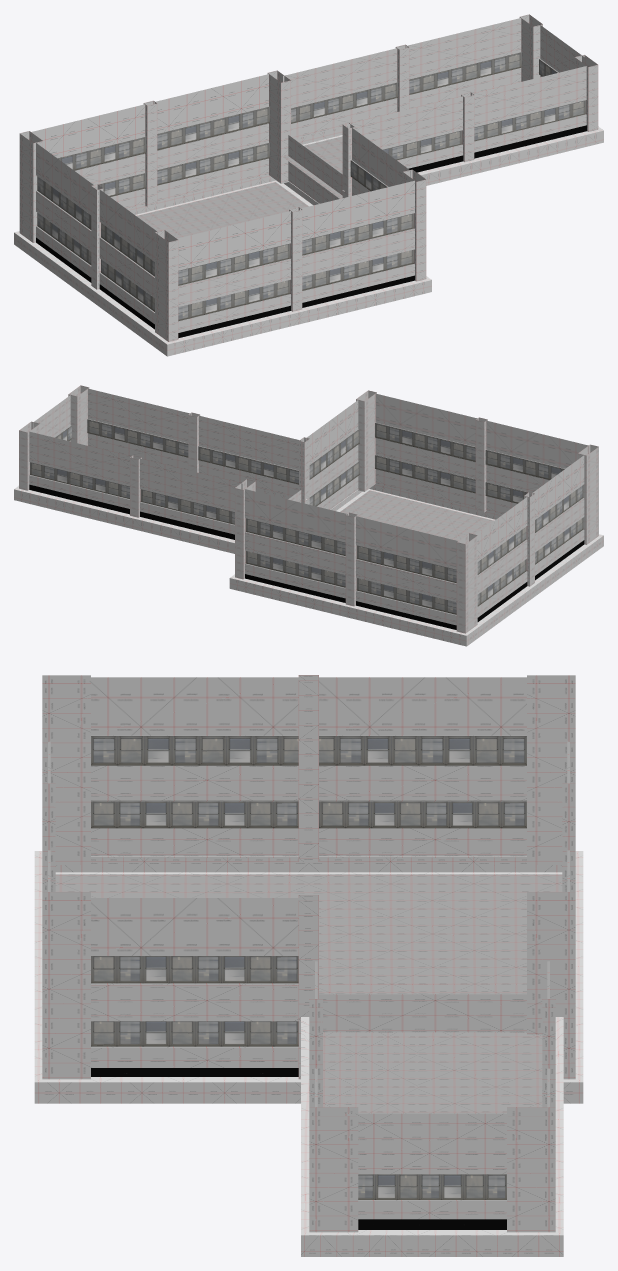
The model's file is build_01_a.FBX.
The picture shows the model from 3 angles, top to bottom: view 1: azimuth 30°, elevation 25°; view 2: azimuth 150°, elevation 25°; view 3: azimuth 270°, elevation 25°; orthographic projection. The views are drawn at different scales.
Parts seen in each view (by area): view 1: build_01_a; view 2: build_01_a; view 3: build_01_a.
Part boxes in pixels (<box>): build_01_a: <box>14,14,603,356</box>; build_01_a: <box>14,385,603,646</box>; build_01_a: <box>34,675,583,1256</box>.
Bounding box in the file's own units: 162 × 33.88 × 84.12.
